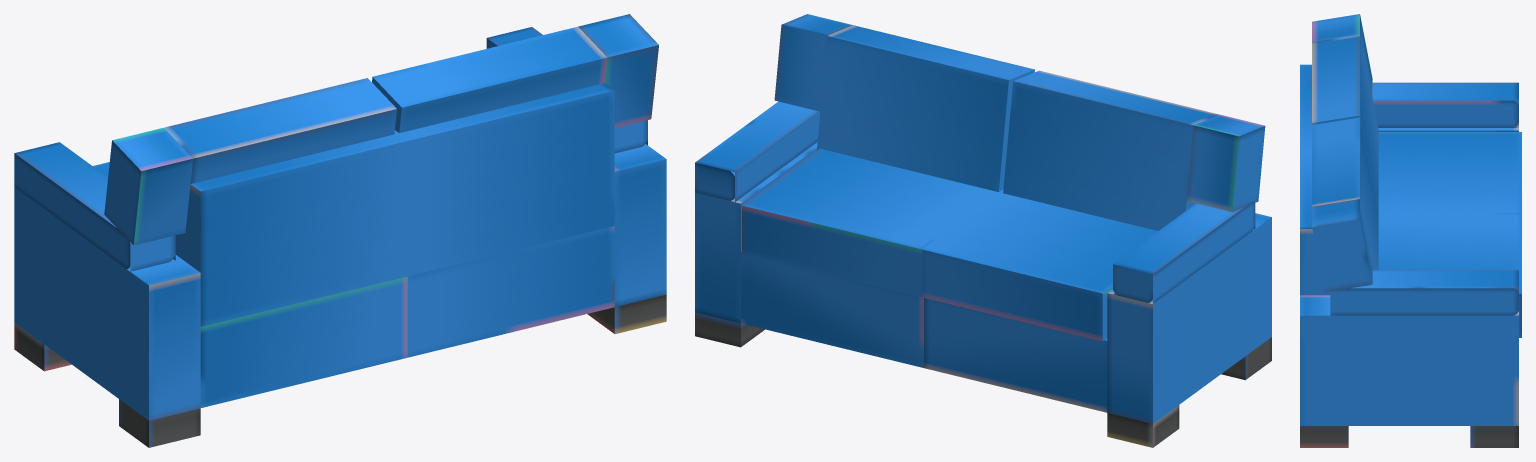
The model's file is gauč _1.fbx.
3 renders of one model, left to right at view 1: azimuth 30°, elevation 25°; view 2: azimuth 150°, elevation 25°; view 3: azimuth 270°, elevation 25°, orthographic. The views are drawn at different scales.
Visible parts, largest first — view 1: cube_2, cube_1, cube_10, cube, cube_14, cube_4, cube_6, cube_5, cube_11, cube_16, cube_9, cube_7 (+2 smaller); view 2: cube_14, cube_4, cube_13, cube_3, cube_1, cube, cube_10, cube_6, cube_15, cube_11, cube_5, cube_16 (+3 smaller); view 3: cube_11, cube_3, cube_13, cube_15, cube_6, cube_4, cube_14, cube_16, cube_2, cube_5, cube_7, cube_12 (+1 smaller).
Boxes of the visible parts, bbox=[...] form: cube_2: bbox=[175, 83, 614, 326]; cube_1: bbox=[14, 187, 200, 420]; cube_10: bbox=[407, 226, 614, 357]; cube: bbox=[200, 276, 407, 407]; cube_14: bbox=[372, 26, 607, 133]; cube_4: bbox=[164, 78, 396, 258]; cube_6: bbox=[14, 142, 175, 271]; cube_5: bbox=[104, 127, 192, 245]; cube_11: bbox=[614, 144, 666, 306]; cube_16: bbox=[578, 14, 658, 127]; cube_9: bbox=[119, 399, 200, 447]; cube_7: bbox=[587, 294, 666, 333]; cube_14: bbox=[816, 25, 1034, 192]; cube_4: bbox=[1003, 70, 1218, 230]; cube_13: bbox=[742, 148, 1003, 297]; cube_3: bbox=[922, 190, 1157, 341]; cube_1: bbox=[1107, 213, 1271, 423]; cube: bbox=[924, 298, 1107, 412]; cube_10: bbox=[741, 251, 923, 367]; cube_6: bbox=[1113, 201, 1255, 303]; cube_15: bbox=[695, 101, 820, 201]; cube_11: bbox=[695, 142, 817, 323]; cube_5: bbox=[1186, 114, 1265, 212]; cube_16: bbox=[774, 14, 852, 111]; cube_11: bbox=[1300, 295, 1518, 425]; cube_3: bbox=[1378, 132, 1521, 212]; cube_13: bbox=[1378, 213, 1521, 337]; cube_15: bbox=[1330, 270, 1518, 315]; cube_6: bbox=[1372, 82, 1518, 127]; cube_4: bbox=[1312, 34, 1378, 211]; cube_14: bbox=[1312, 117, 1378, 270]; cube_16: bbox=[1312, 199, 1372, 292]; cube_2: bbox=[1300, 64, 1330, 295]; cube_5: bbox=[1312, 14, 1372, 98]; cube_7: bbox=[1300, 426, 1348, 447]; cube_12: bbox=[1470, 426, 1518, 447].
Size of the model in its own units: 125 by 64.77 by 57.03.
1 material, 1 textured.
